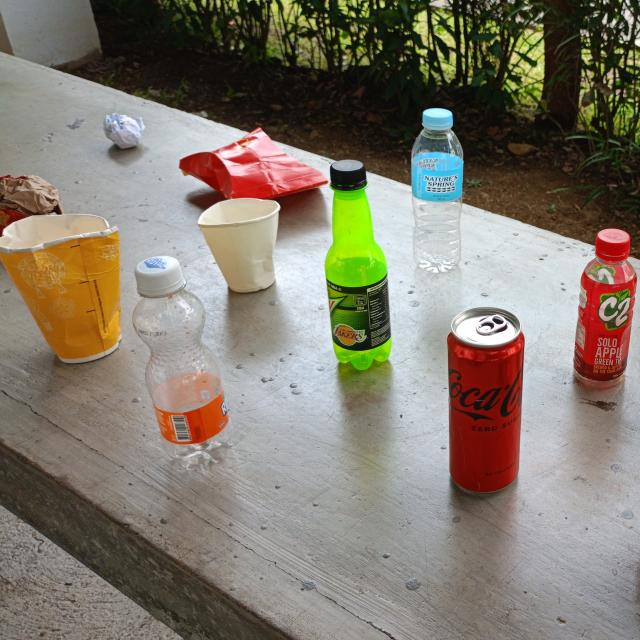Anorganik: (124, 245, 242, 475), (314, 147, 402, 378), (436, 298, 532, 506), (563, 218, 640, 402), (403, 102, 470, 279)
Organik: (0, 208, 133, 370), (194, 188, 288, 298), (0, 167, 69, 238), (94, 106, 150, 153)
